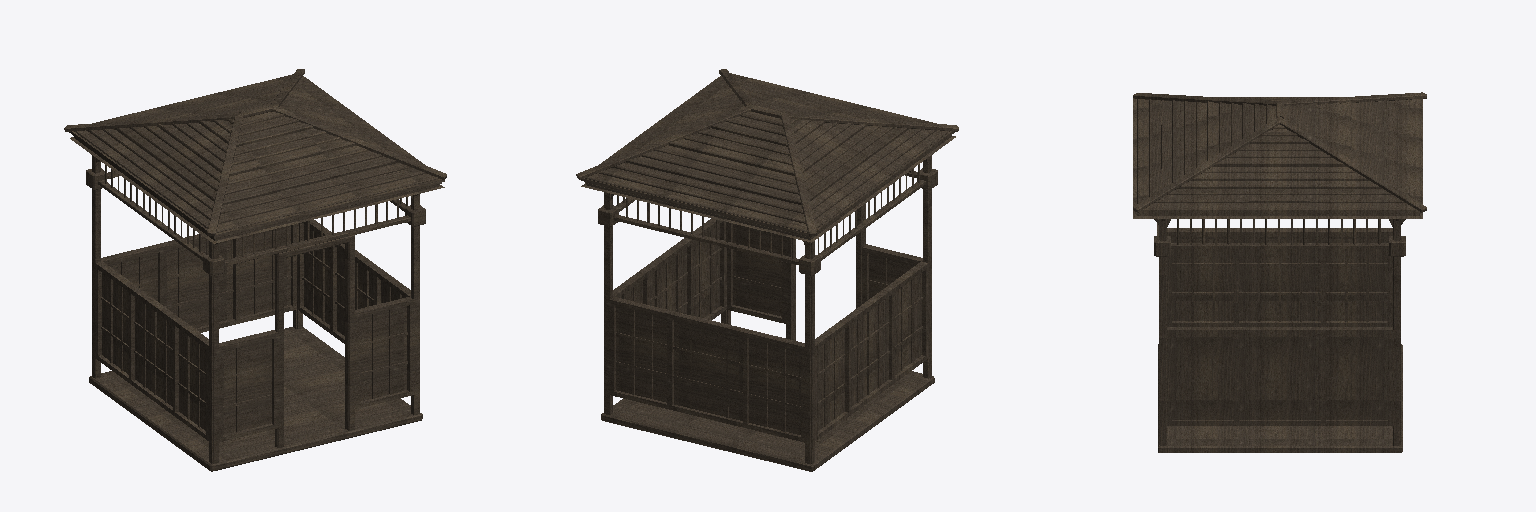
3 renders of one model, left to right at view 1: azimuth 30°, elevation 25°; view 2: azimuth 150°, elevation 25°; view 3: azimuth 270°, elevation 25°, orthographic.
Visible parts, largest first — view 1: Rectangle06; view 2: Rectangle06; view 3: Rectangle06.
Boxes of the visible parts, x1=… form: Rectangle06: x1=64, y1=69, x2=446, y2=471; Rectangle06: x1=576, y1=69, x2=958, y2=471; Rectangle06: x1=1133, y1=92, x2=1426, y2=452.
Bounding box in the file's own units: 36.92 × 42.82 × 39.17.
1 materials, 1 textured.